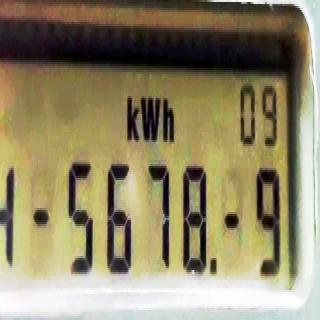-: (32, 197, 49, 233), (222, 205, 240, 236), (208, 252, 219, 284)
0: (240, 79, 256, 152)
4: (0, 152, 15, 276)
5: (65, 152, 96, 287)
6: (105, 154, 134, 282)
7: (148, 151, 173, 281)
8: (180, 152, 208, 286)
9: (253, 160, 284, 285), (261, 77, 279, 151)
